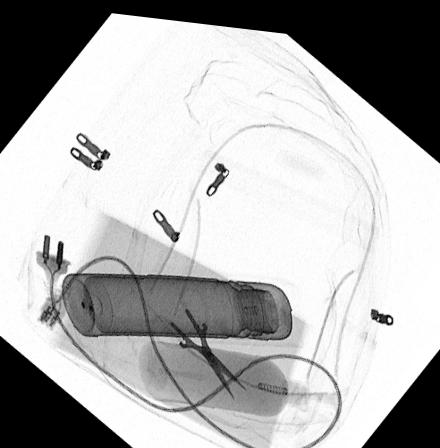Scissors: (148, 281, 247, 395)
